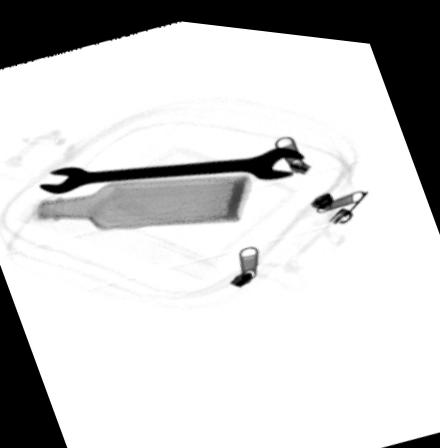Wrench: (38, 138, 307, 193)
